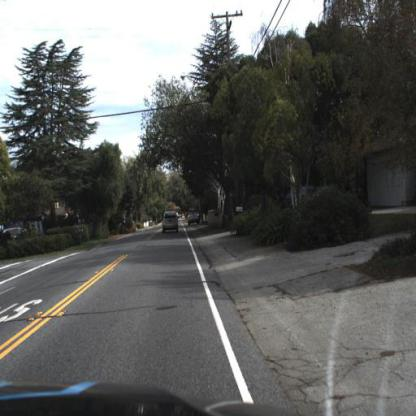car: (162, 210, 181, 234), (188, 208, 202, 228)
